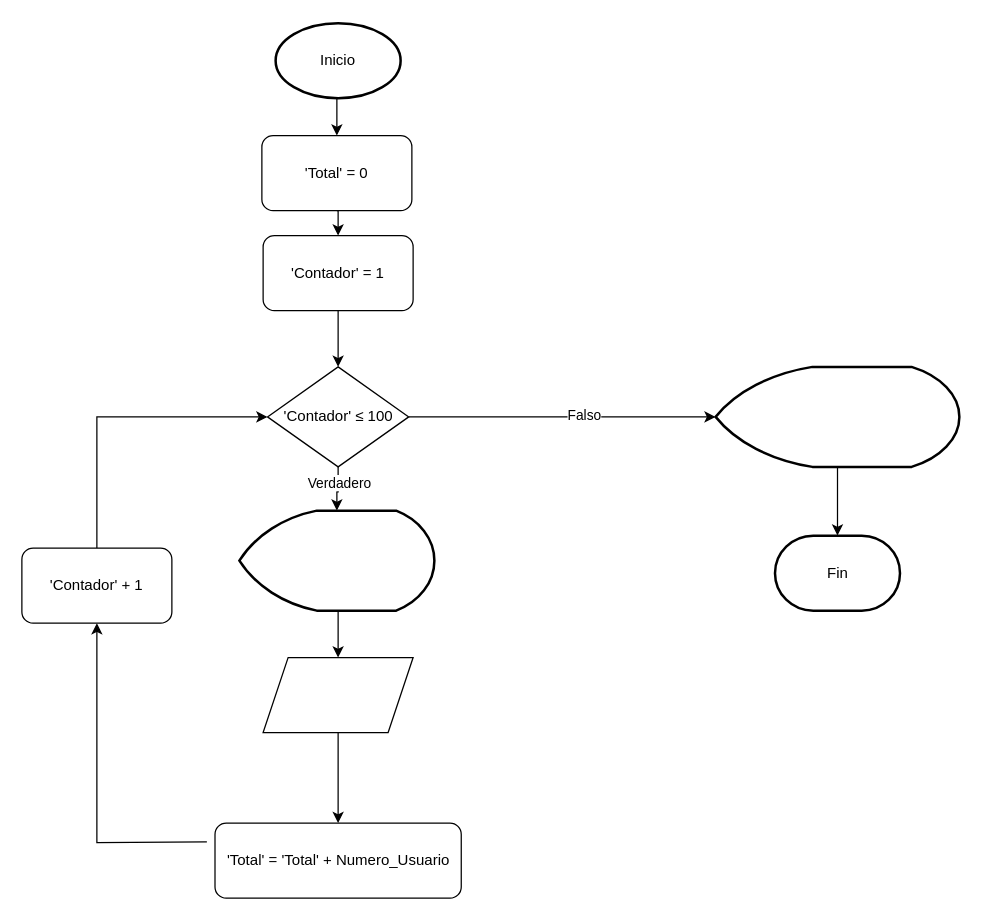
Image size: 983x920. Some labels were removed from this diagram. Here are the shapes that lost their labels. From the top down, the centre of each, then its label:
At [837,416]: "El número mayor de todos es: 'Numero_Mayor'".
At [336,560]: "Favor Ingrese el número: 'Contador'".
At [337,694]: "Numero_Usuario".
